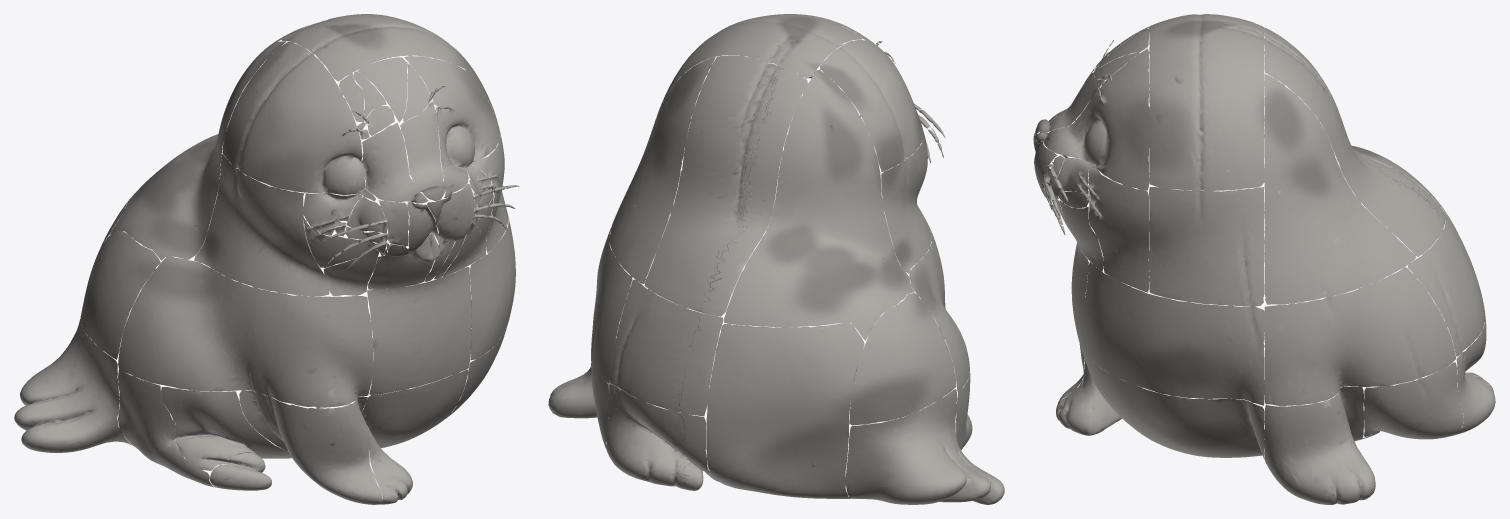
File: baobao-3d-lite.glb
3 views of the same model, side by side, from view 1: azimuth 30°, elevation 25°; view 2: azimuth 150°, elevation 25°; view 3: azimuth 270°, elevation 25° (orthographic). The views are drawn at different scales.
Visible parts, largest first — view 1: baobao; view 2: baobao; view 3: baobao.
Part boxes in pixels (left/top/right/bottom): baobao: left=14, top=14, right=519, bottom=504; baobao: left=548, top=14, right=1004, bottom=504; baobao: left=1033, top=14, right=1495, bottom=504.
Bounding box in the file's own units: 1.56 × 1.34 × 1.36.
Materials: 1 (1 with a texture image).
